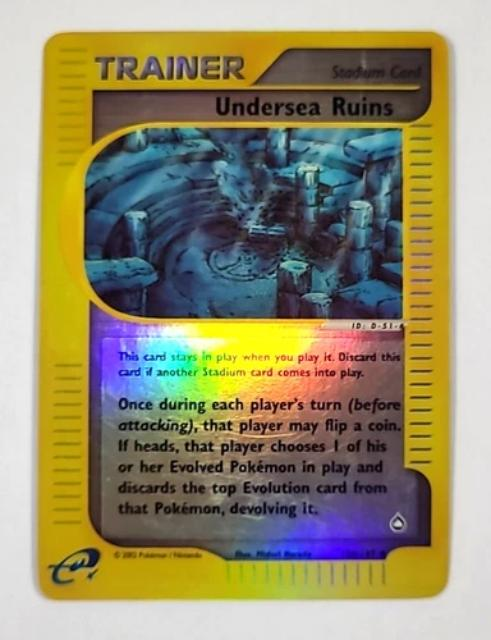Card: (35, 27, 454, 606)
Name: (208, 89, 410, 124)
